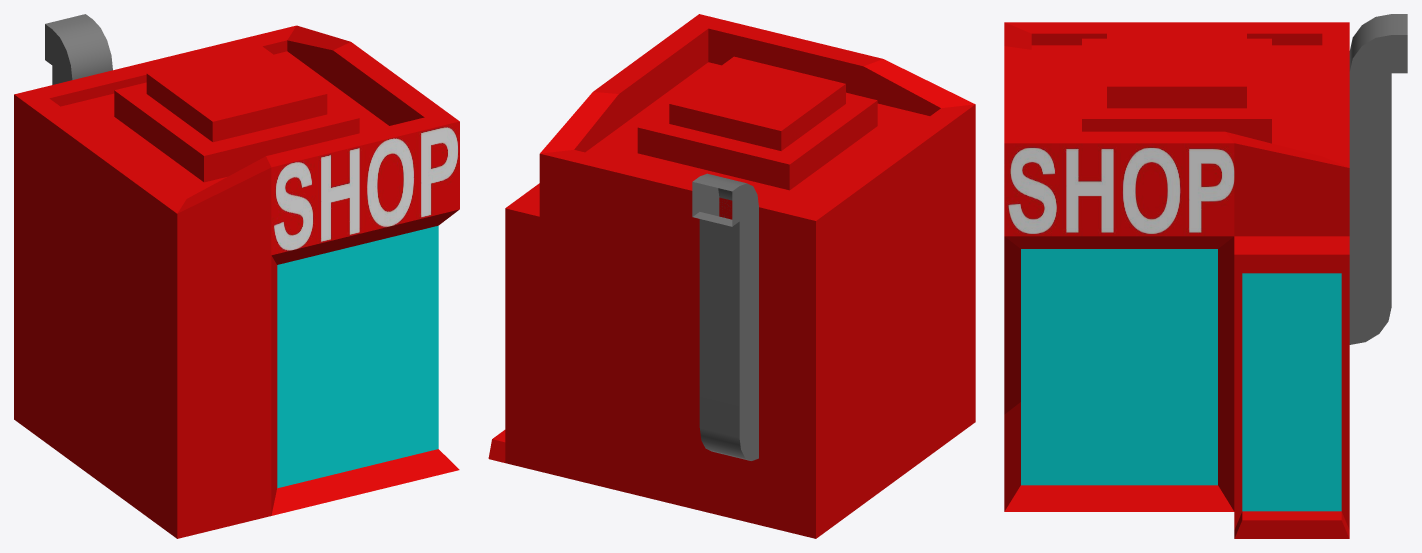
File: shop2.fbx
3 renders of one model, left to right at view 1: azimuth 30°, elevation 25°; view 2: azimuth 150°, elevation 25°; view 3: azimuth 270°, elevation 25°, orthographic. The views are drawn at different scales.
Visible parts, largest first — view 1: shop2, ventilation; view 2: shop2, ventilation; view 3: shop2, ventilation.
Part boxes in pixels (x1,y1,x2,y2): shop2: (14,25,459,538); ventilation: (45,14,112,84); shop2: (488,14,975,538); ventilation: (692,173,758,460); shop2: (1004,22,1349,538); ventilation: (1349,14,1407,344).
Bounding box in the file's own units: 3.74 × 3.85 × 3.68.
4 materials, 1 textured.
